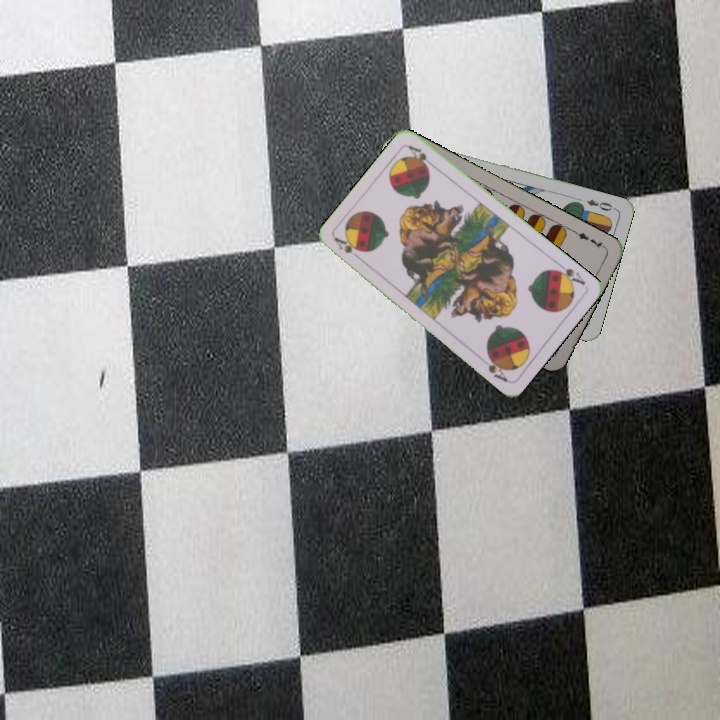E7: (570, 227, 608, 251)
EO: (583, 195, 618, 214)
SA: (549, 258, 588, 290), (330, 234, 365, 264)
